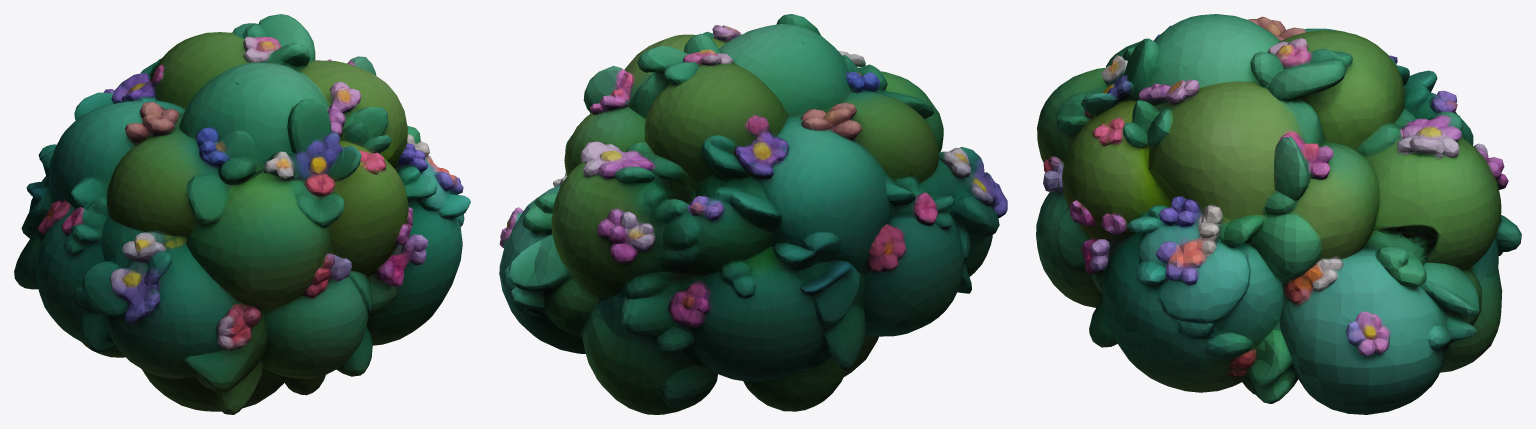
The model's file is arbusto_flores.glb.
3 renders of one model, left to right at view 1: azimuth 30°, elevation 25°; view 2: azimuth 150°, elevation 25°; view 3: azimuth 270°, elevation 25°, orthographic. The views are drawn at different scales.
Parts seen in each view (by area): view 1: world; view 2: world; view 3: world.
Boxes of the visible parts, box(x1,y1,x2,y2) form: world: box(14, 14, 470, 414); world: box(499, 14, 1007, 414); world: box(1036, 14, 1521, 414).
Size of the model in its own units: 0.7435 by 0.5807 by 0.7157.
1 material, 1 textured.
